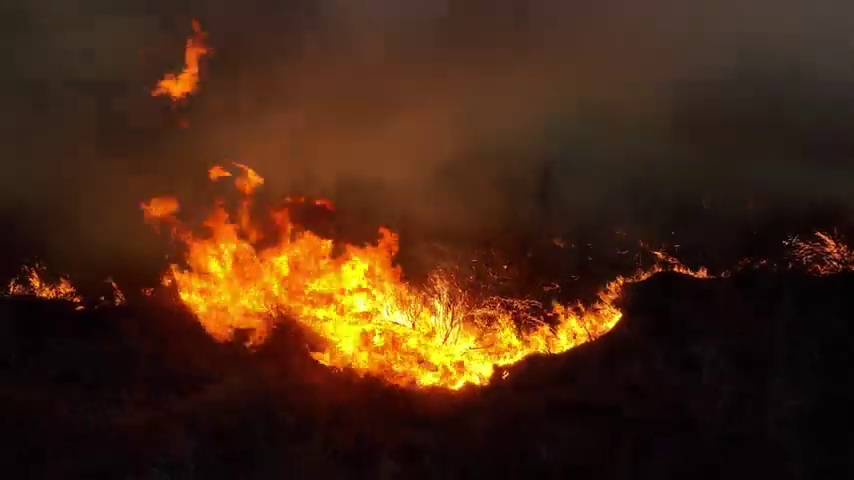forest_fire: (163, 163, 706, 388), (153, 21, 208, 100), (791, 233, 853, 273), (10, 267, 80, 302), (141, 197, 178, 220), (208, 166, 232, 179)
